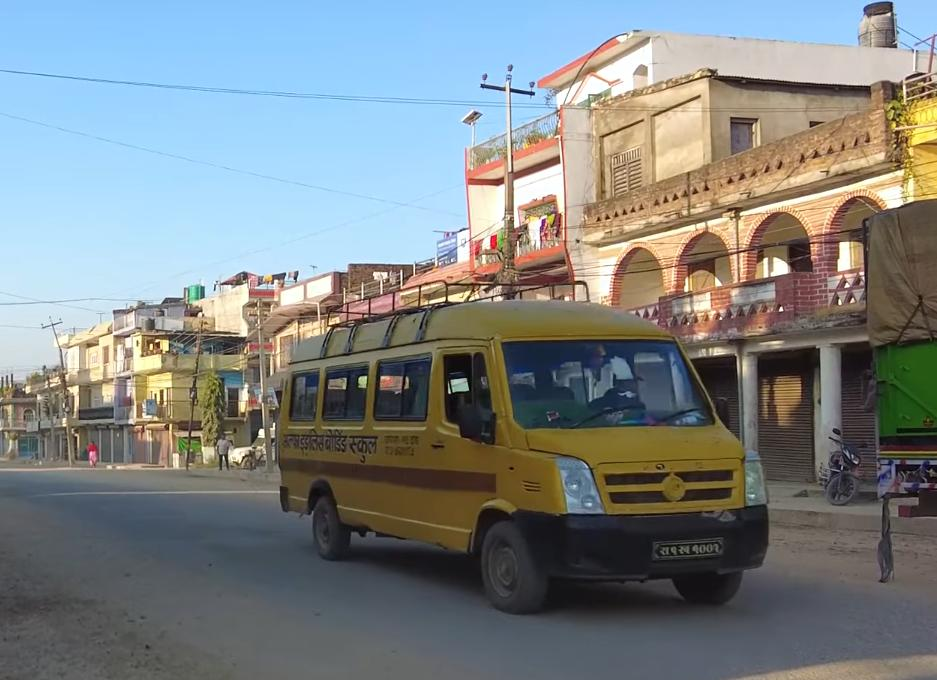bike: (820, 423, 867, 508)
school_bus: (273, 272, 779, 626)
